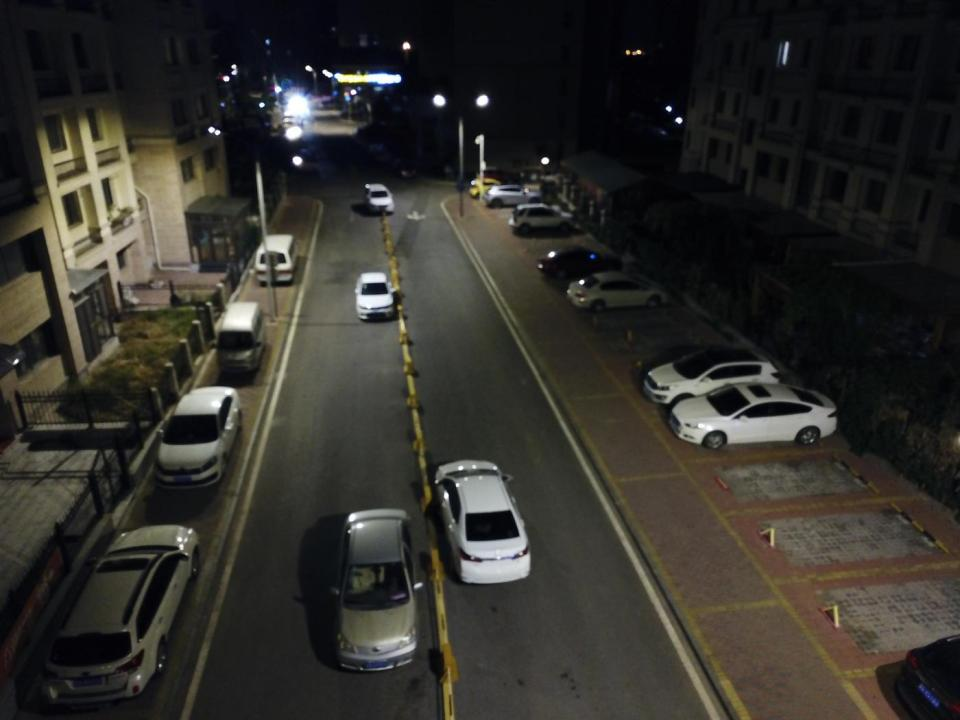car: (40, 524, 201, 709), (329, 509, 425, 673), (436, 459, 532, 584), (667, 382, 838, 450), (155, 384, 243, 491), (642, 348, 782, 408), (566, 269, 668, 312), (537, 246, 623, 279), (353, 271, 397, 321), (508, 203, 575, 233), (484, 184, 545, 208), (365, 182, 394, 213), (469, 177, 507, 199), (477, 165, 514, 186), (395, 159, 418, 178)
van: (211, 300, 266, 373), (255, 232, 298, 284)
